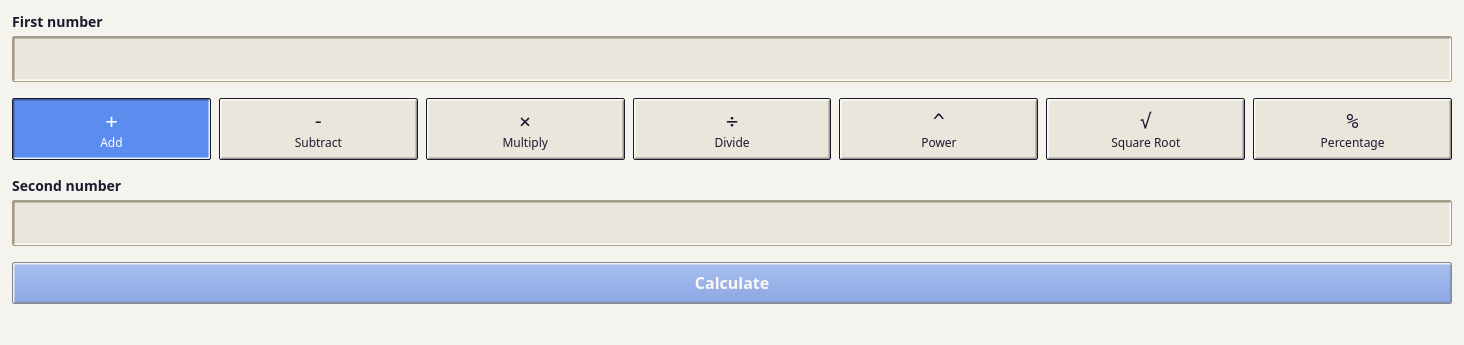
Test: Calculator › before calculating › shows an error for a number that is not valid
Type "abc" into the field labelled "First number" at (732, 59), box x1=12 y1=36 x2=1452 y2=82
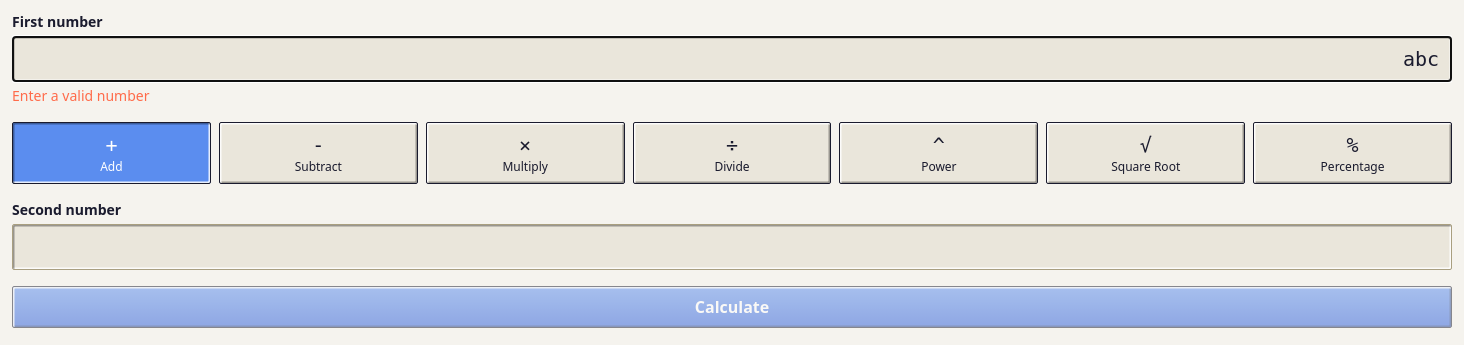
expect the button "Calculate" is disabled: met, box x1=12 y1=286 x2=1452 y2=328
expect the text "Enter a valid number" is shown: met, box x1=12 y1=86 x2=149 y2=105
